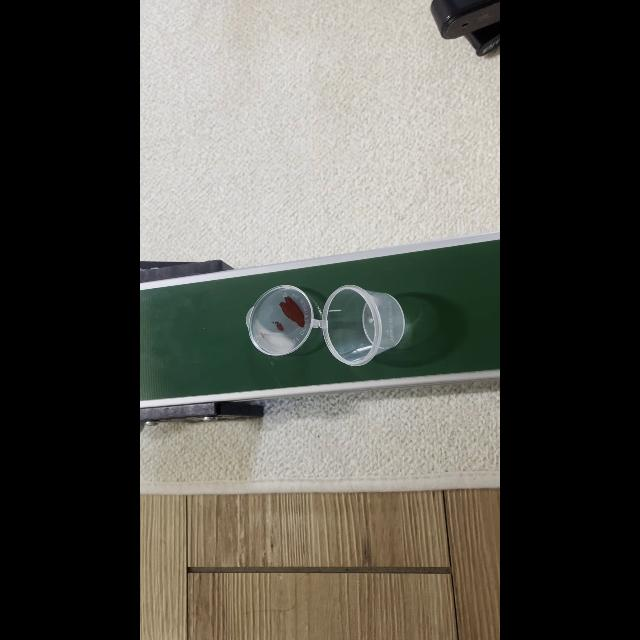dirty: (249, 283, 405, 365)
